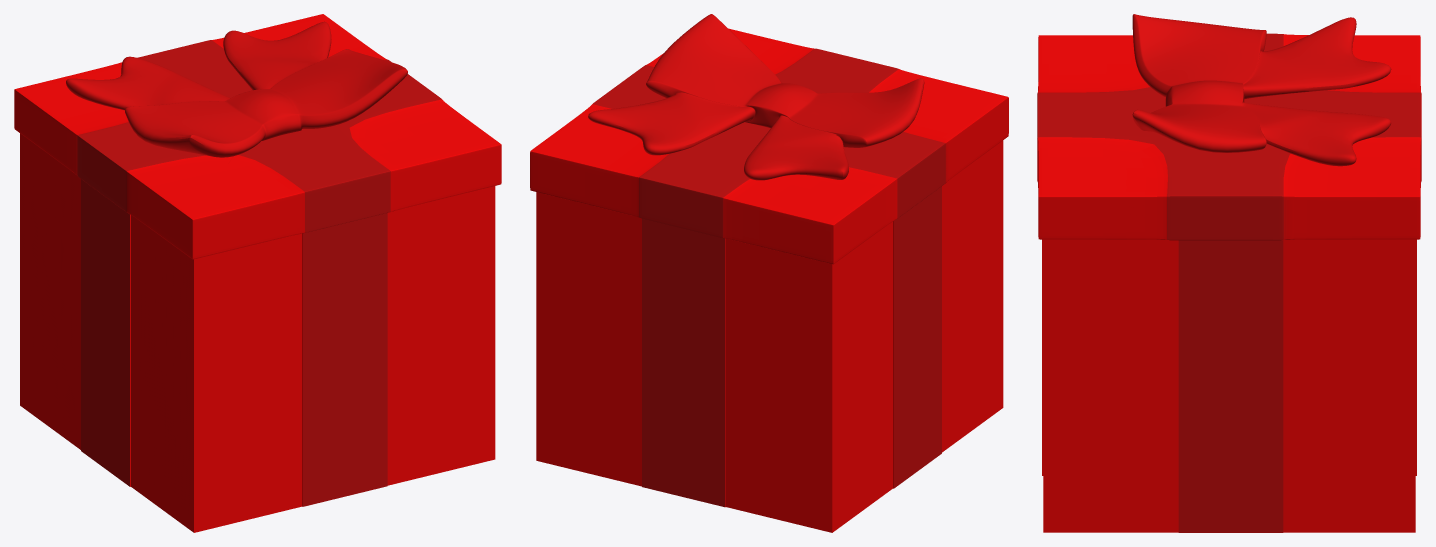
Rendered from PresenteVermelho.fbx.
3 views of the same model, side by side, from view 1: azimuth 30°, elevation 25°; view 2: azimuth 150°, elevation 25°; view 3: azimuth 270°, elevation 25° (orthographic). The views are drawn at different scales.
Parts seen in each view (by area): view 1: Cube, Plane.001, Plane.003; view 2: Cube, Plane.001, Plane.003; view 3: Cube, Plane.001, Plane.003.
Part boxes in pixels (bbox=[...]): Cube: bbox=[20, 133, 495, 532]; Plane.001: bbox=[14, 14, 501, 259]; Plane.003: bbox=[66, 21, 407, 157]; Cube: bbox=[536, 140, 1003, 532]; Plane.001: bbox=[530, 28, 1008, 264]; Plane.003: bbox=[588, 14, 924, 180]; Cube: bbox=[1042, 239, 1416, 532]; Plane.001: bbox=[1037, 33, 1421, 240]; Plane.003: bbox=[1132, 14, 1391, 166].
Size of the model in its own units: 206 by 206 by 235.
2 materials, 2 textured.
